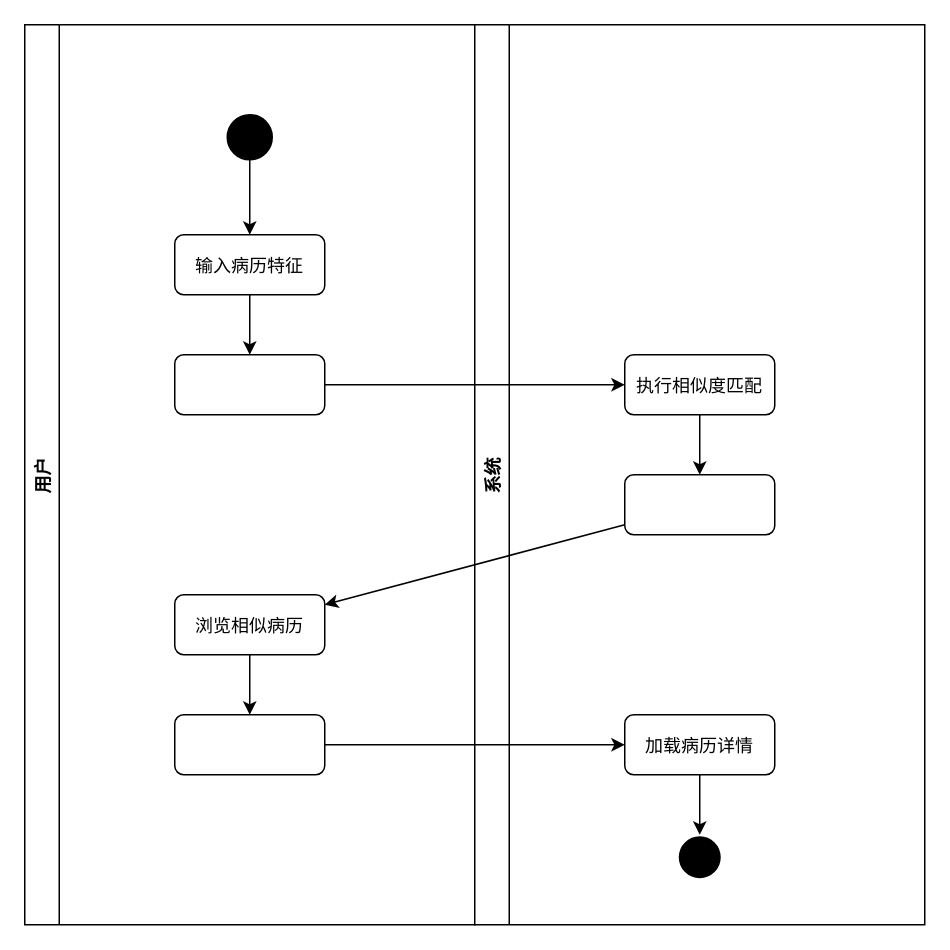
Some shapes in this 950 by 950 pixel diagram are drawn without their labels. Each missing label, with the centre of its shape:
"查看病历详情" belongs at point 249,744.
"设置匹配条件" belongs at point 249,384.
"返回匹配结果" belongs at point 699,504.
